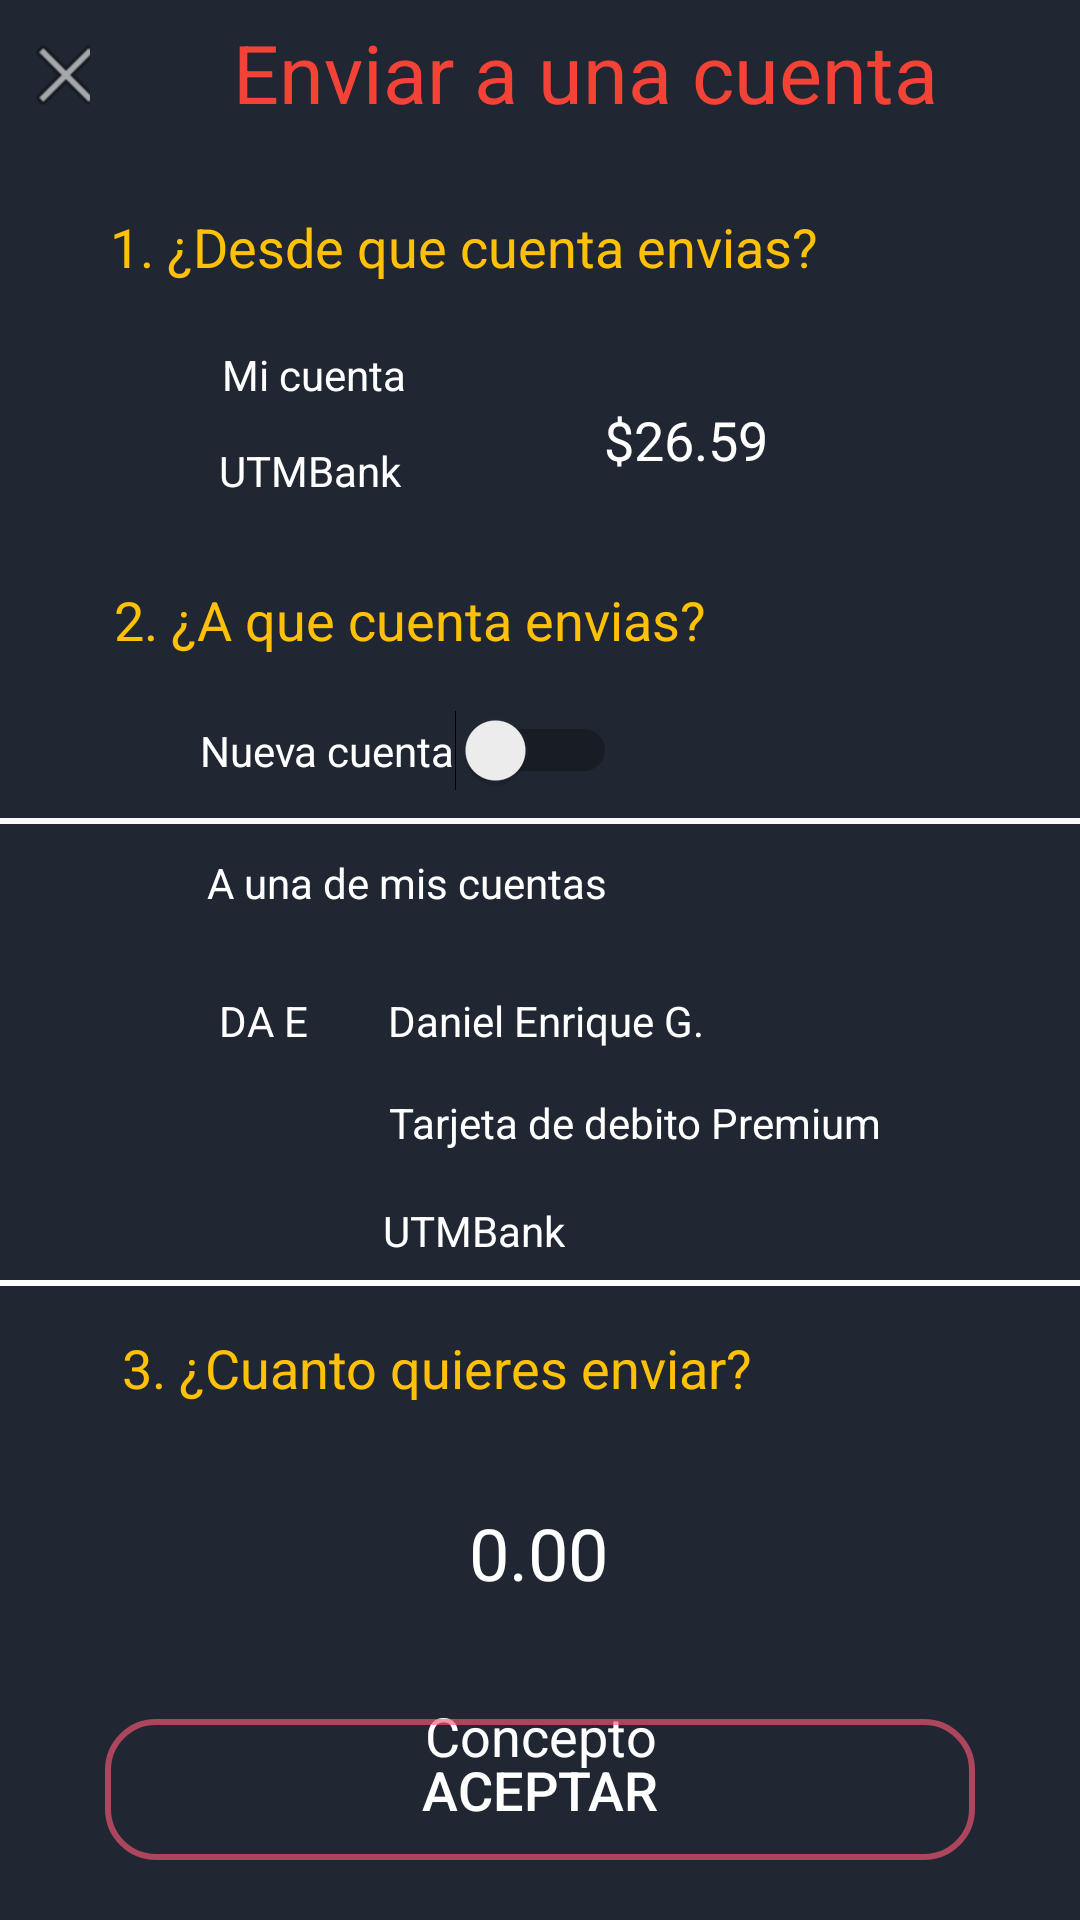

Where icons sit on this 1080 × 1920 app screen, as rect(x1, y1, x2, y2):
close clear cancel: rect(39, 48, 90, 102)
